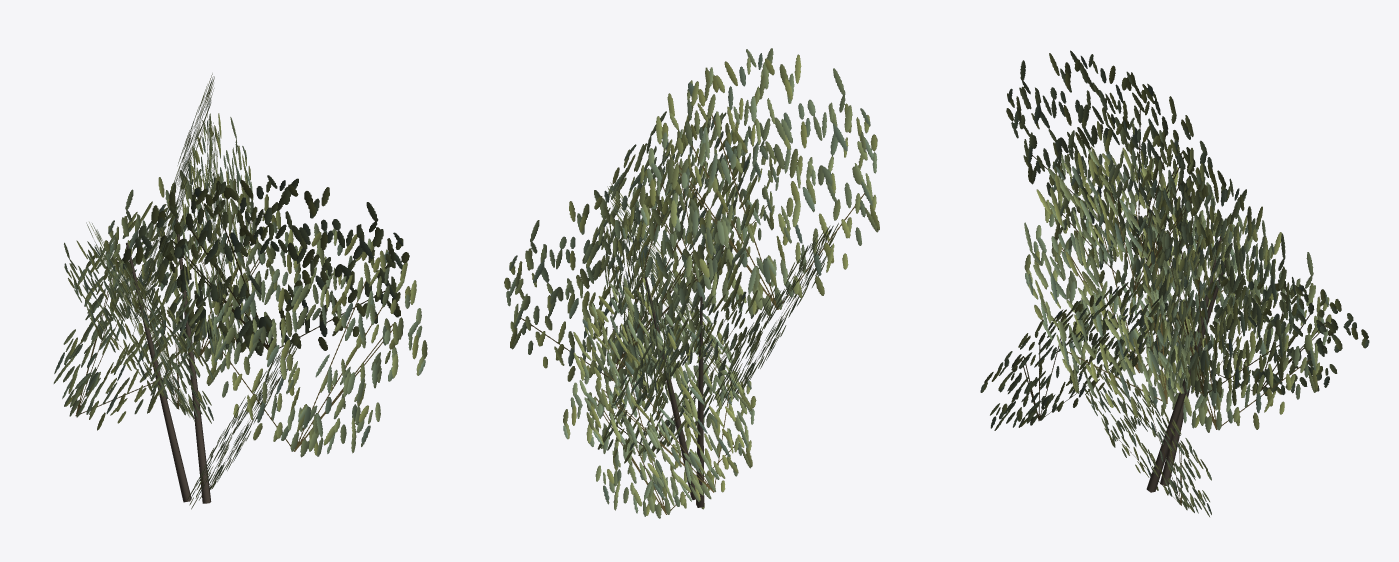
File: tpl_rec_bank_meadow_osier_lo.glb
3 renders of one model, left to right at view 1: azimuth 30°, elevation 25°; view 2: azimuth 150°, elevation 25°; view 3: azimuth 270°, elevation 25°, orthographic. The views are drawn at different scales.
Parts seen in each view (by area): view 1: tpl_rec_bank_meadow_osier_lo; view 2: tpl_rec_bank_meadow_osier_lo; view 3: tpl_rec_bank_meadow_osier_lo.
Boxes of the visible parts, x1=… form: tpl_rec_bank_meadow_osier_lo: x1=53, y1=73, x2=427, y2=509; tpl_rec_bank_meadow_osier_lo: x1=504, y1=48, x2=879, y2=518; tpl_rec_bank_meadow_osier_lo: x1=980, y1=50, x2=1369, y2=516.
Bounding box in the file's own units: 4.85 × 6.35 × 5.69.
Materials: 2 (1 with a texture image).
